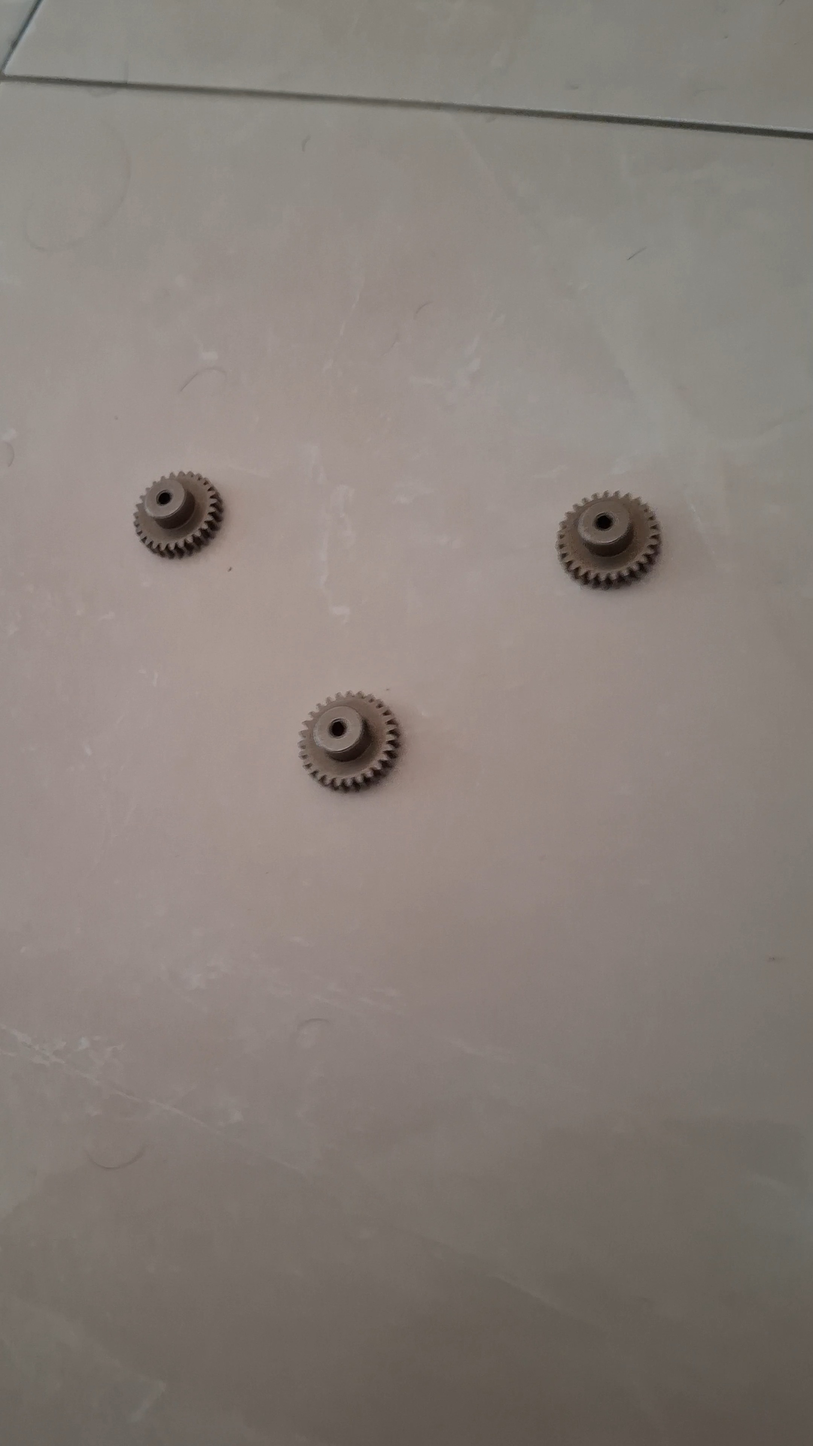spur gear: (557, 492, 661, 587), (300, 693, 400, 791), (134, 473, 222, 557)
